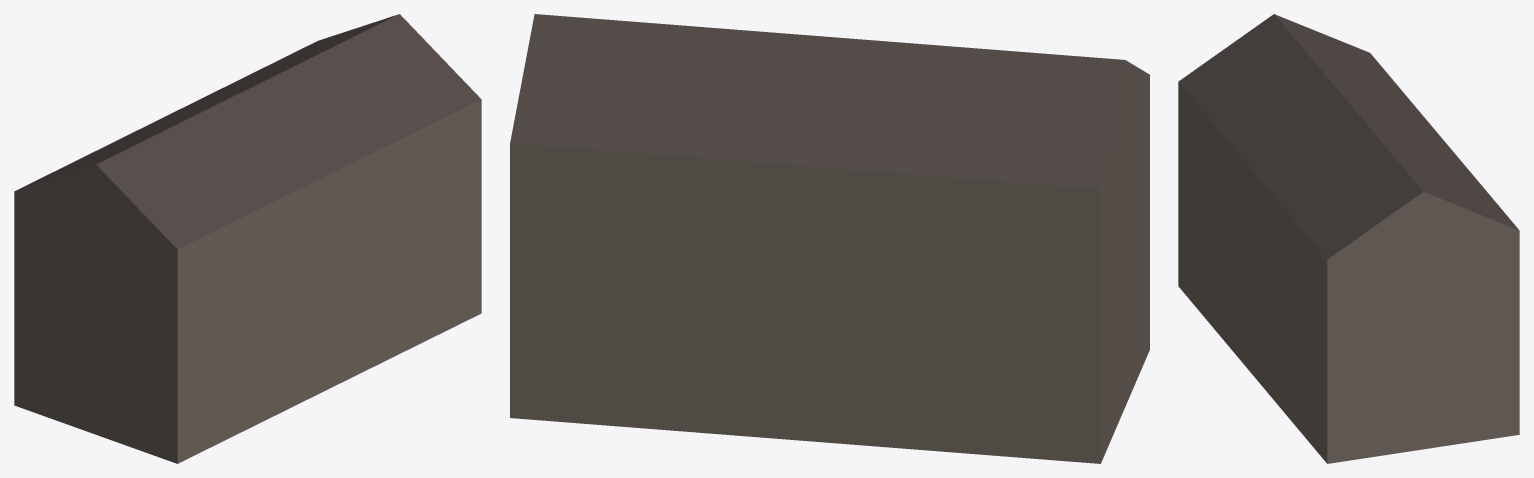
3 views of the same model, side by side, from view 1: azimuth 30°, elevation 25°; view 2: azimuth 150°, elevation 25°; view 3: azimuth 270°, elevation 25° (orthographic). The views are drawn at different scales.
Parts seen in each view (by area): view 1: HP-w1424106440; view 2: HP-w1424106440; view 3: HP-w1424106440.
Boxes of the visible parts, x1,y1,x2,y2 form: HP-w1424106440: [14, 14, 481, 463]; HP-w1424106440: [510, 14, 1149, 463]; HP-w1424106440: [1178, 14, 1519, 463].
Size of the model in its own units: 13.03 by 7.57 by 9.09.
